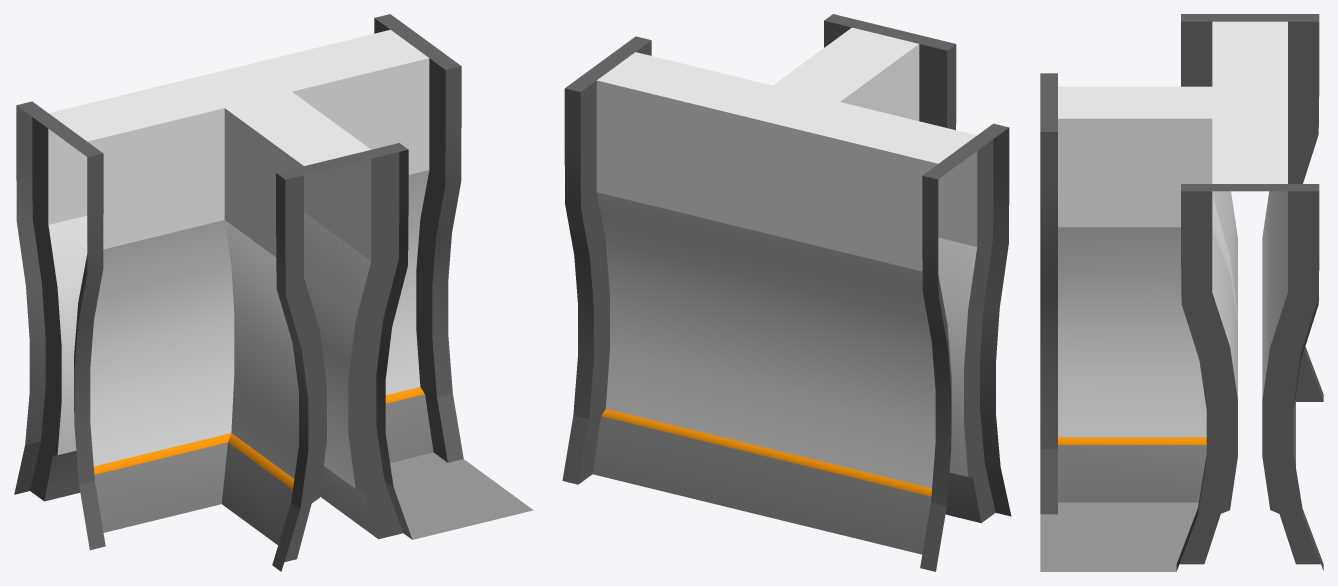
The model's file is SM_ExteriorWall_T_01.fbx.
The picture shows the model from 3 angles, left to right: view 1: azimuth 30°, elevation 25°; view 2: azimuth 150°, elevation 25°; view 3: azimuth 270°, elevation 25°; orthographic projection. The views are drawn at different scales.
Visible parts, largest first — view 1: SM_ExteriorWall_T_01; view 2: SM_ExteriorWall_T_01; view 3: SM_ExteriorWall_T_01.
Part boxes in pixels (x1=…): SM_ExteriorWall_T_01: x1=14, y1=14, x2=533, y2=571; SM_ExteriorWall_T_01: x1=562, y1=14, x2=1011, y2=571; SM_ExteriorWall_T_01: x1=1040, y1=14, x2=1323, y2=571.
Size of the model in its own units: 200 by 200 by 135.
1 material, 1 textured.
